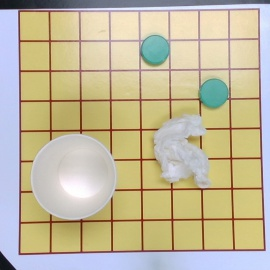cup: (30, 133, 118, 219)
green: (141, 36, 170, 64), (201, 78, 228, 107)
